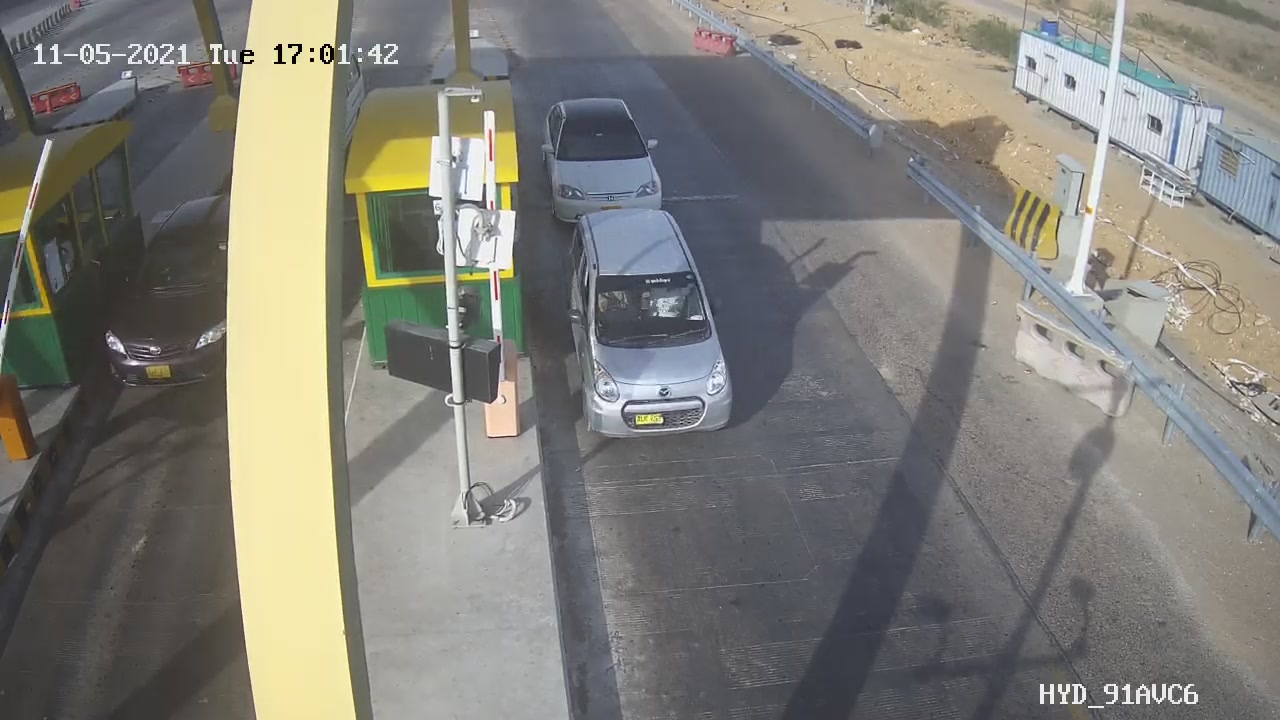F1: (543, 196, 755, 462), (526, 83, 694, 246)
